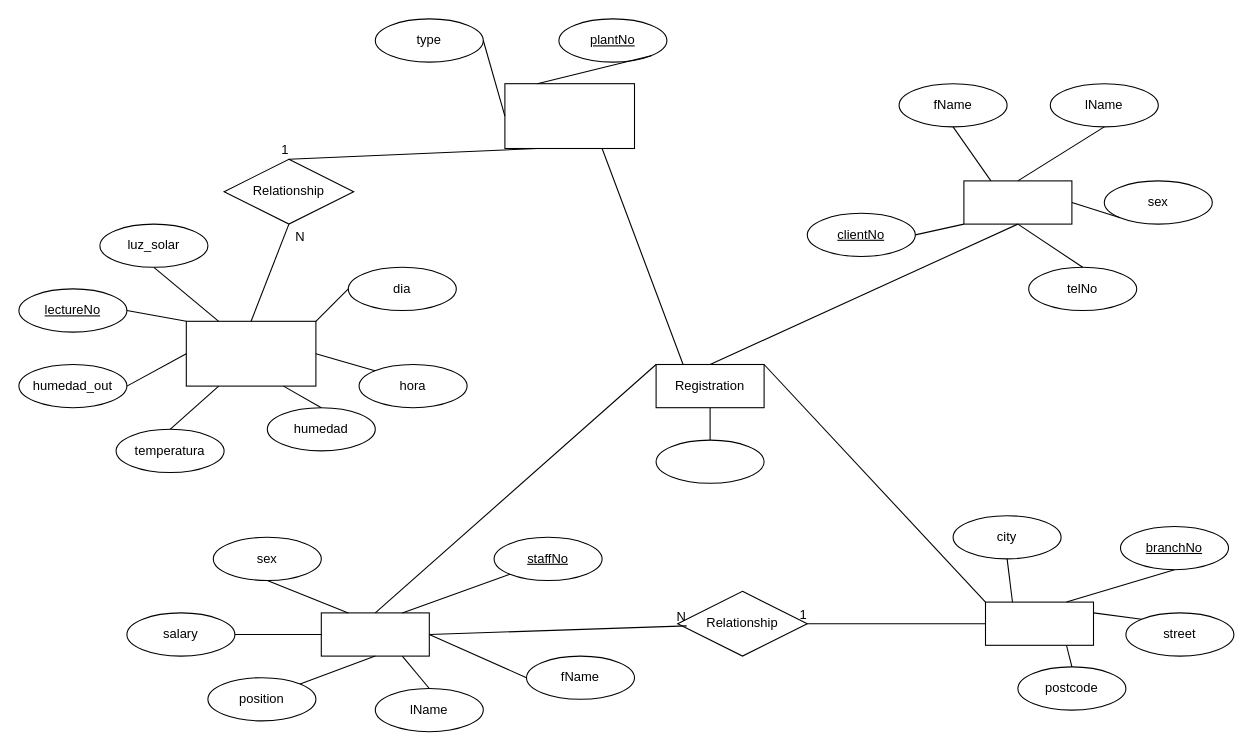
Image size: 1253x751. Some labels were removed from this diagram. Here are the shapes that lost their labels. From the top down, the centre of each, then its label:
the point at 569,115: Plant
the point at 1017,202: Client
the point at 250,353: Lecture
the point at 709,461: dateShopping
the point at 374,634: Staff
the point at 1039,623: Branch
